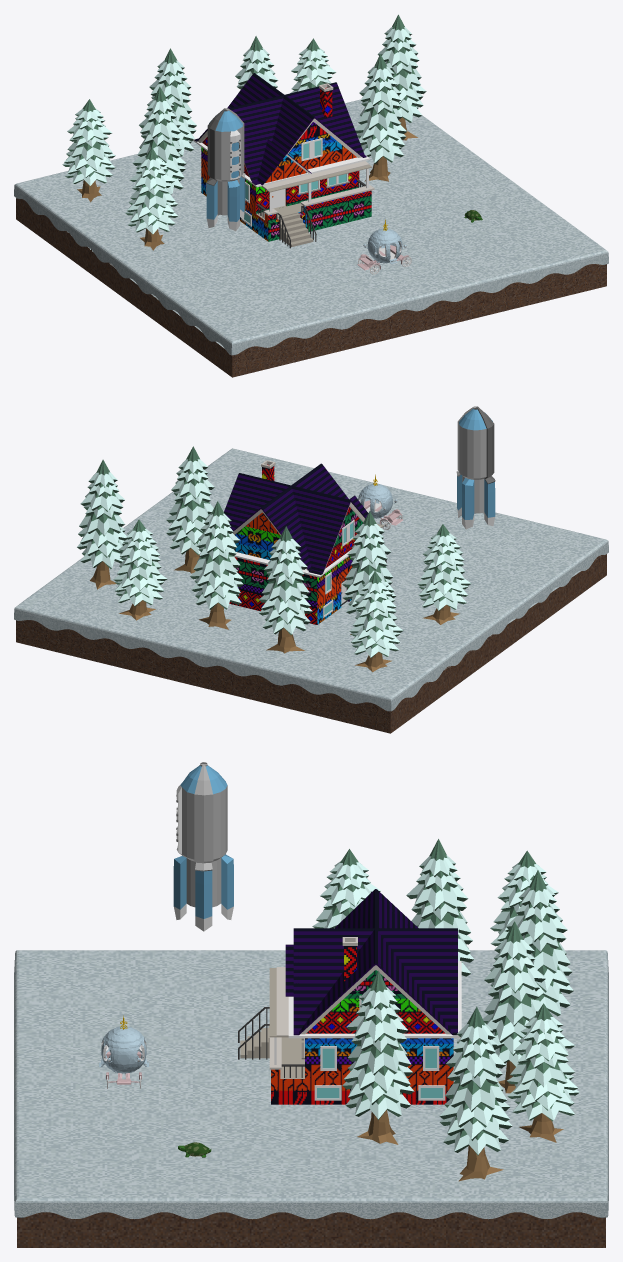
3 views of the same model, one above another, from view 1: azimuth 30°, elevation 25°; view 2: azimuth 150°, elevation 25°; view 3: azimuth 270°, elevation 25° (orthographic). The views are drawn at different scales.
Parts seen in each view (by area): view 1: Cube.003, Cube.966, OBJRANDOM_ROCKETSHIP, VEHICLES_FANTASY_CARRIAGE; view 2: Cube.003, Cube.966, OBJRANDOM_ROCKETSHIP, VEHICLES_FANTASY_CARRIAGE; view 3: Cube.003, Cube.966, OBJRANDOM_ROCKETSHIP, VEHICLES_FANTASY_CARRIAGE.
Part boxes in pixels (x1,y1,x2,y2): Cube.003: (14, 14, 608, 377); Cube.966: (193, 73, 374, 248); OBJRANDOM_ROCKETSHIP: (206, 108, 245, 231); VEHICLES_FANTASY_CARRIAGE: (357, 219, 411, 274); Cube.003: (14, 446, 608, 733); Cube.966: (224, 460, 386, 624); OBJRANDOM_ROCKETSHIP: (456, 406, 495, 529); VEHICLES_FANTASY_CARRIAGE: (358, 474, 403, 529); Cube.003: (14, 839, 608, 1247); Cube.966: (238, 889, 461, 1104); OBJRANDOM_ROCKETSHIP: (173, 762, 233, 931); VEHICLES_FANTASY_CARRIAGE: (99, 1015, 148, 1088).
Bounding box in the file's own units: 4040 × 2252 × 4040.
Materials: 36 (7 with a texture image).
